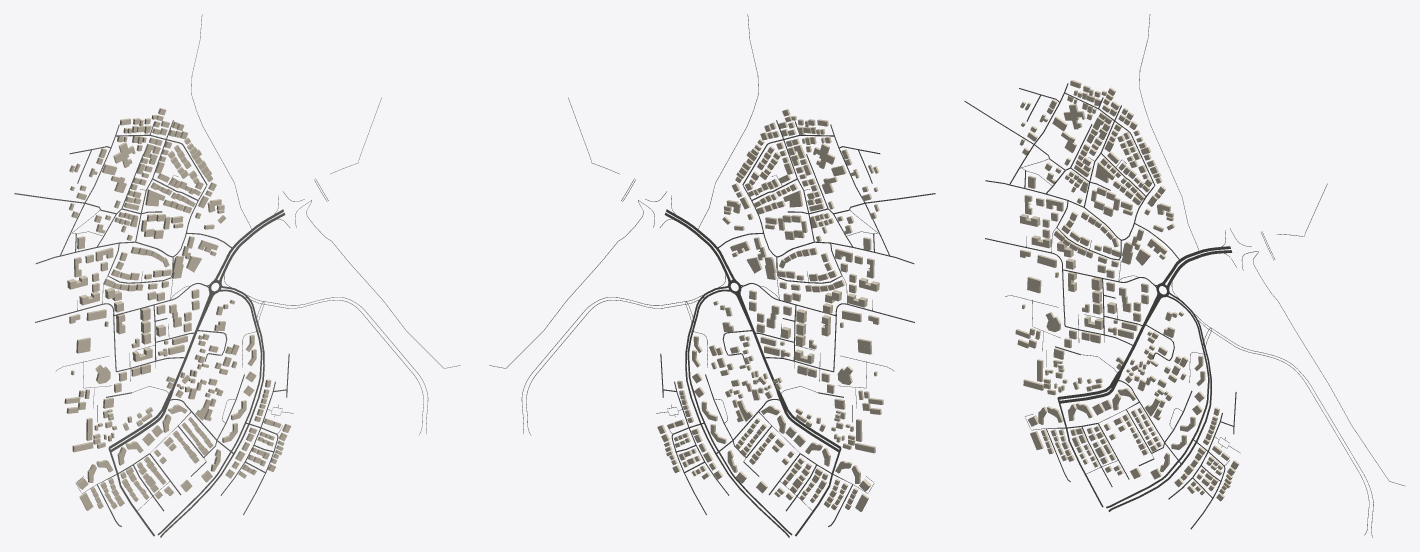
Rendered from historic-palestine-07_25_3490_3195.glb.
3 views of the same model, side by side, from view 1: azimuth 30°, elevation 25°; view 2: azimuth 150°, elevation 25°; view 3: azimuth 330°, elevation 25° (orthographic).
Parts seen in each view (by area): view 1: Road חיים משה שפירא, Road חיים משה שפירא.001; view 2: Road חיים משה שפירא, Road חיים משה שפירא.001; view 3: Road חיים משה שפירא.001, Road חיים משה שפירא.
Part boxes in pixels (x1,y1,x2,y2): Road חיים משה שפירא: (160, 285, 264, 537); Road חיים משה שפירא.001: (157, 289, 262, 535); Road חיים משה שפירא: (685, 285, 789, 537); Road חיים משה שפירא.001: (687, 289, 792, 535); Road חיים משה שפירא.001: (1106, 295, 1209, 508); Road חיים משה שפירא: (1108, 292, 1211, 511).
Bounding box in the file's own units: 1346 × 1481 × 16.7.
